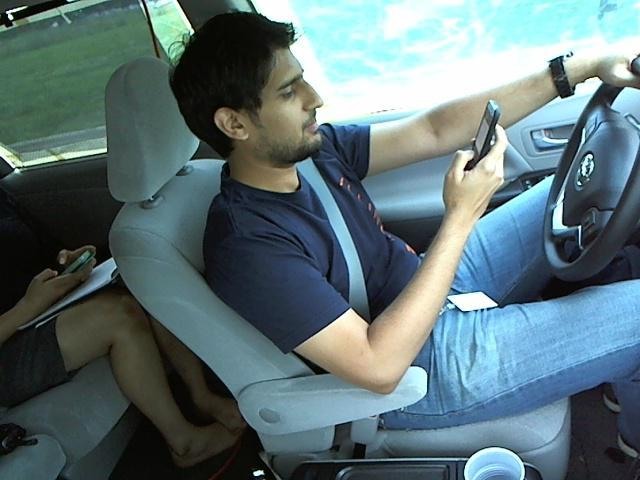PhoneUse: (462, 89, 503, 189)
